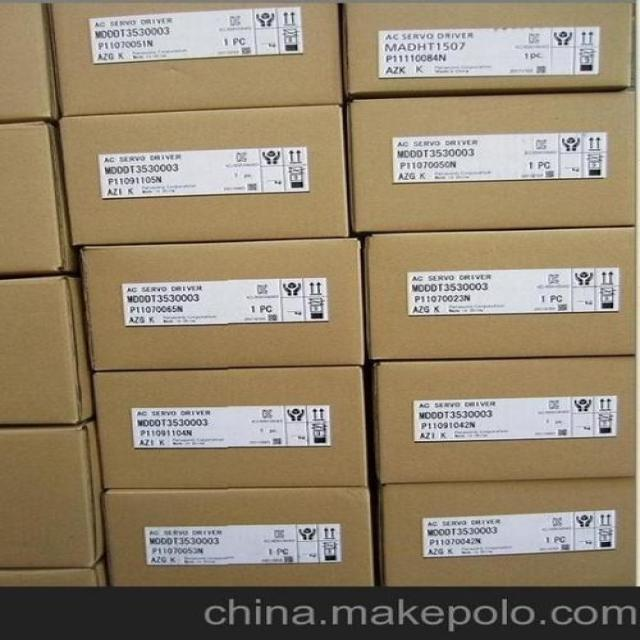box: (58, 104, 351, 248), (347, 89, 639, 233), (78, 236, 367, 371), (360, 226, 639, 361), (370, 356, 639, 486), (92, 368, 372, 491), (49, 5, 348, 118), (376, 478, 639, 588), (341, 3, 632, 96), (103, 486, 372, 586), (0, 419, 104, 571), (0, 277, 94, 427), (0, 120, 78, 279), (0, 1, 61, 123), (0, 558, 105, 588)
